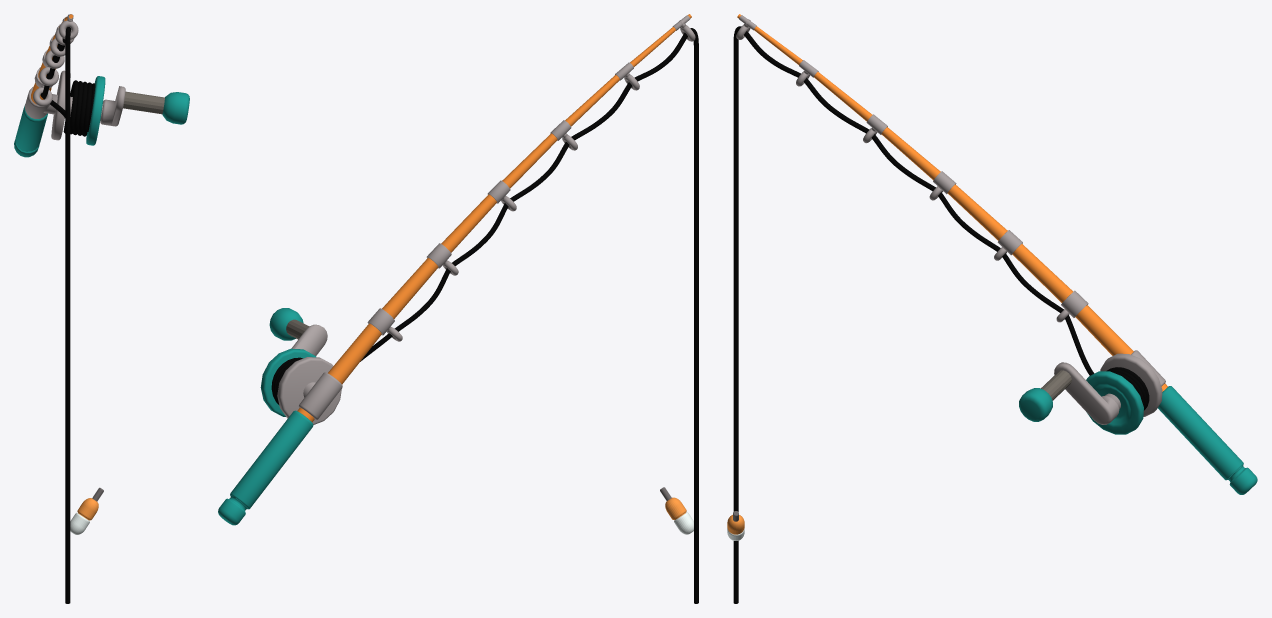
The model's file is Rod.glb.
3 views of the same model, side by side, from view 1: azimuth 30°, elevation 25°; view 2: azimuth 150°, elevation 25°; view 3: azimuth 270°, elevation 25° (orthographic).
Parts seen in each view (by area): view 1: 物体.007, 物体.005, 物体.006, 物体.004, 物体.003; view 2: 物体.005, 物体.007, 物体.006, 物体.001, 物体.003; view 3: 物体.007, 物体.006, 物体.005, 物体.001.
Boxes of the visible parts, left/top/right/bottom form: 物体.007: left=40, top=27, right=95, bottom=603; 物体.005: left=25, top=14, right=125, bottom=140; 物体.006: left=14, top=76, right=189, bottom=157; 物体.004: left=123, top=91, right=164, bottom=114; 物体.003: left=70, top=498, right=98, bottom=534; 物体.005: left=277, top=15, right=695, bottom=424; 物体.007: left=271, top=28, right=698, bottom=603; 物体.006: left=218, top=308, right=315, bottom=525; 物体.001: left=297, top=14, right=691, bottom=422; 物体.003: left=665, top=497, right=693, bottom=534; 物体.007: left=733, top=26, right=1149, bottom=603; 物体.006: left=1019, top=371, right=1257, bottom=494; 物体.005: left=736, top=15, right=1165, bottom=424; 物体.001: left=737, top=14, right=1167, bottom=391.
Bounding box in the file's own units: 1.26 × 2.55 × 2.07.
